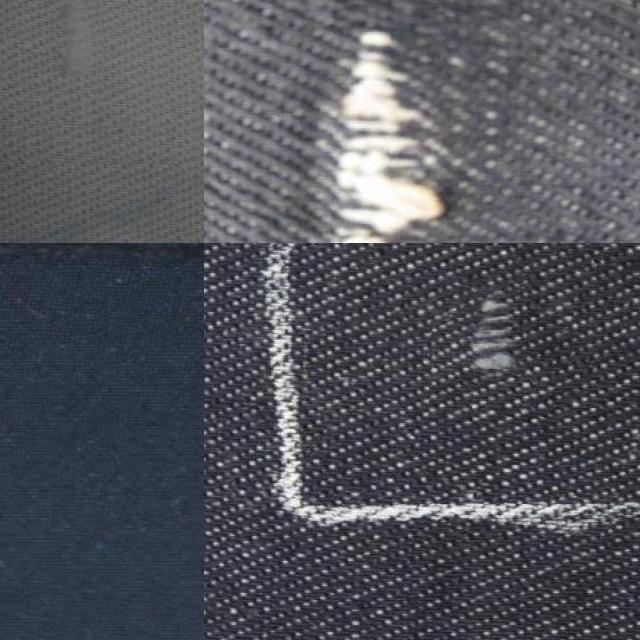stains: (204, 0, 640, 243), (1, 0, 201, 163), (0, 243, 204, 339), (429, 284, 573, 416)
